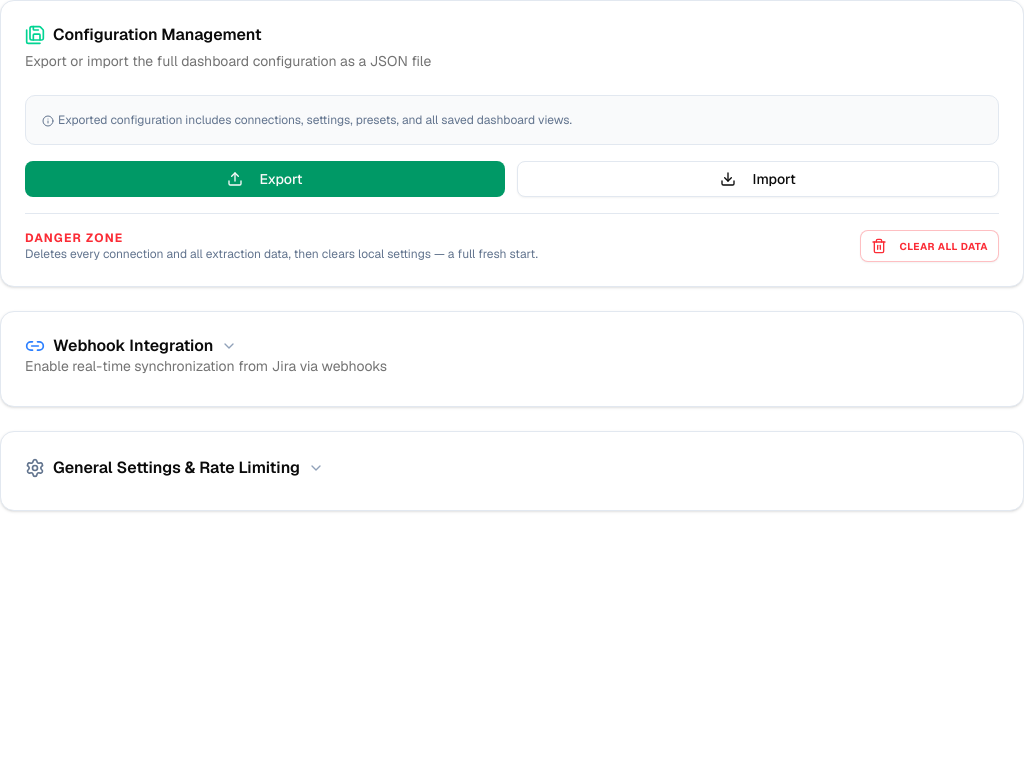
Test case: SettingsPanel › simple mode: the chevron expands the General card
The width and height of the screenshot is (1024, 768).
Expected: the text "Delay (ms)" is not shown
Click the button "General Settings & Rate Limiting".
click(176, 468)  # box [25,456,999,480]
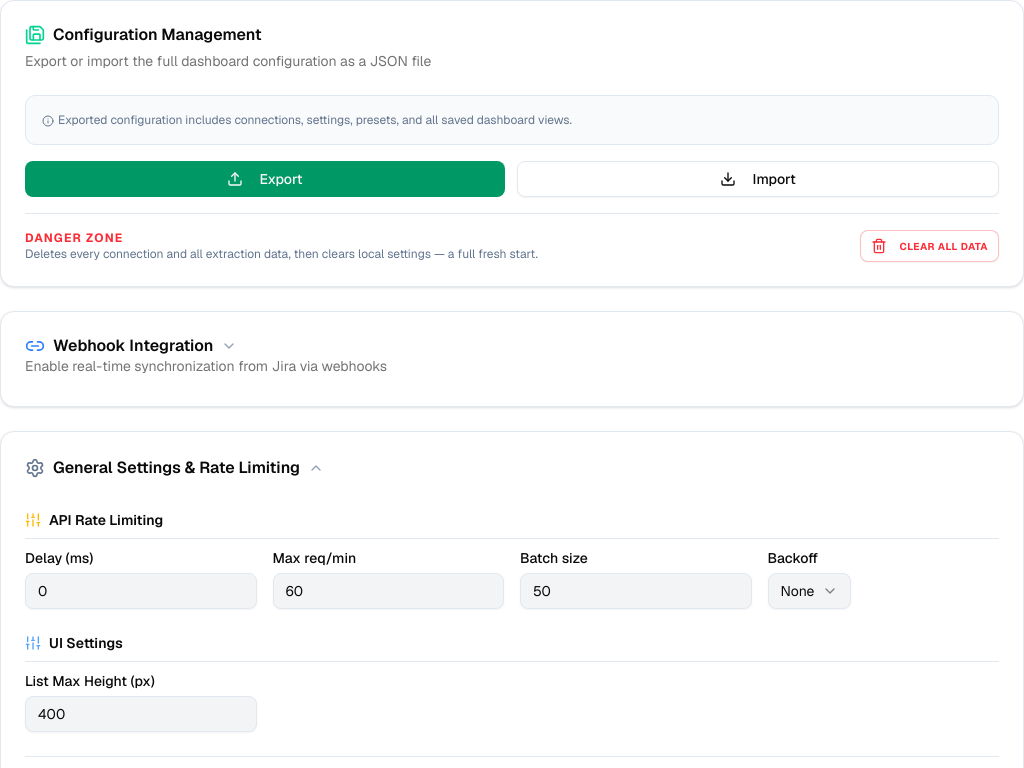
Expected: the button "General Settings & Rate Limiting" is expanded, [25,456,999,480]
Expected: the text "Delay (ms)" is shown, [25,549,93,567]
